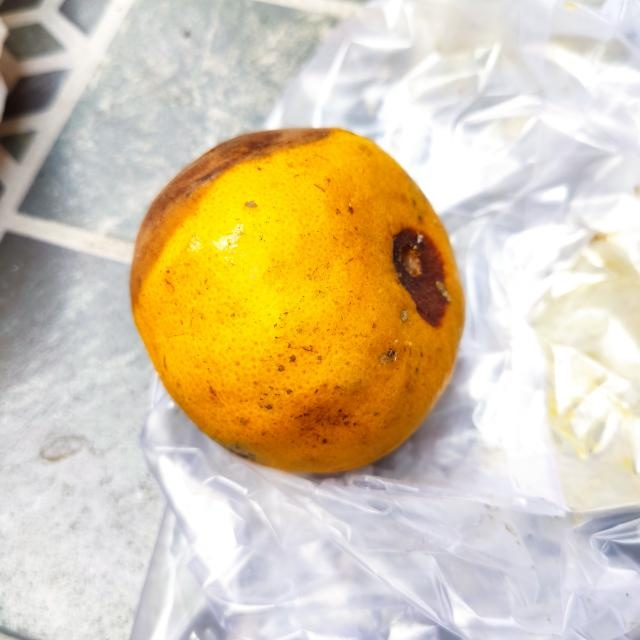agrume: (125, 125, 472, 481)
